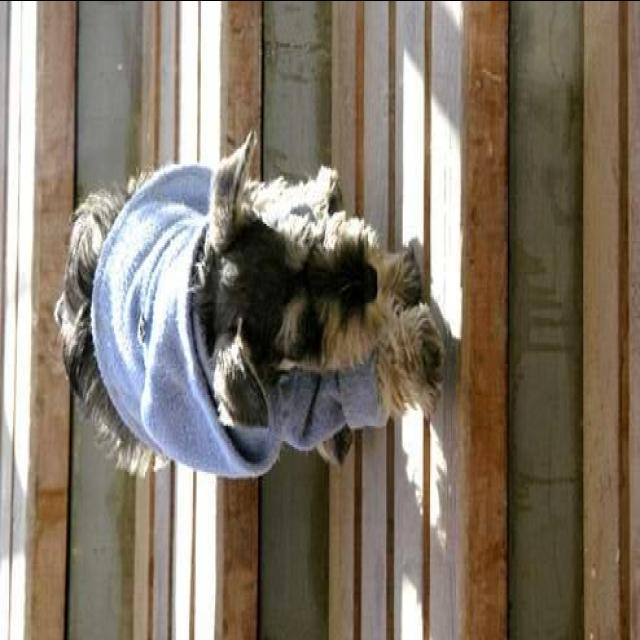standard_schnauzer: (58, 127, 446, 484)
